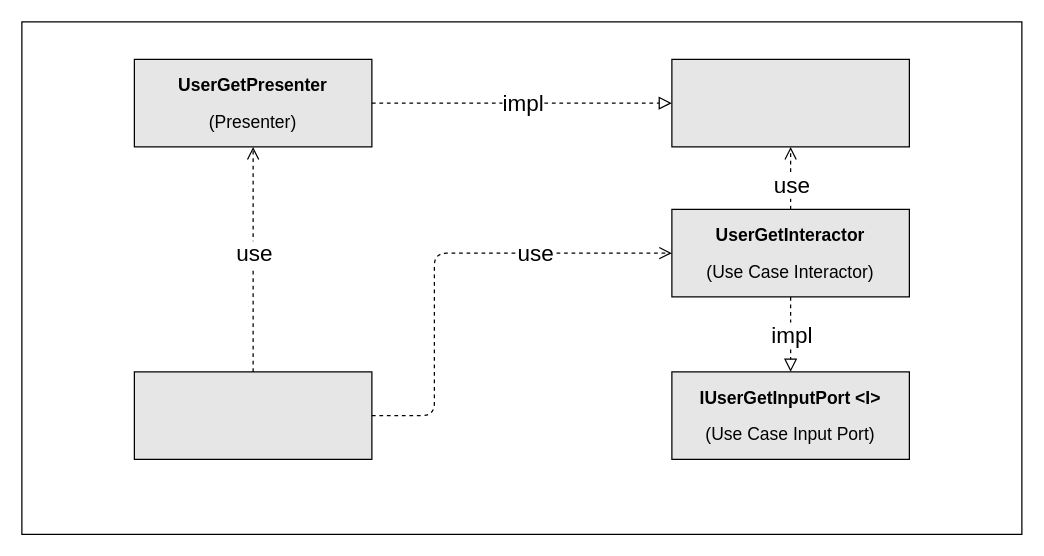
Some shapes in this 1044 by 556 pixel diagram are drawn without their labels. The centre of each missing label's shape, as x and y in pixels:
"controller (Controller)" goes at (x=252, y=415).
"IUserGetOutputPort <I> (Use Case Output Port)" goes at (x=790, y=102).
